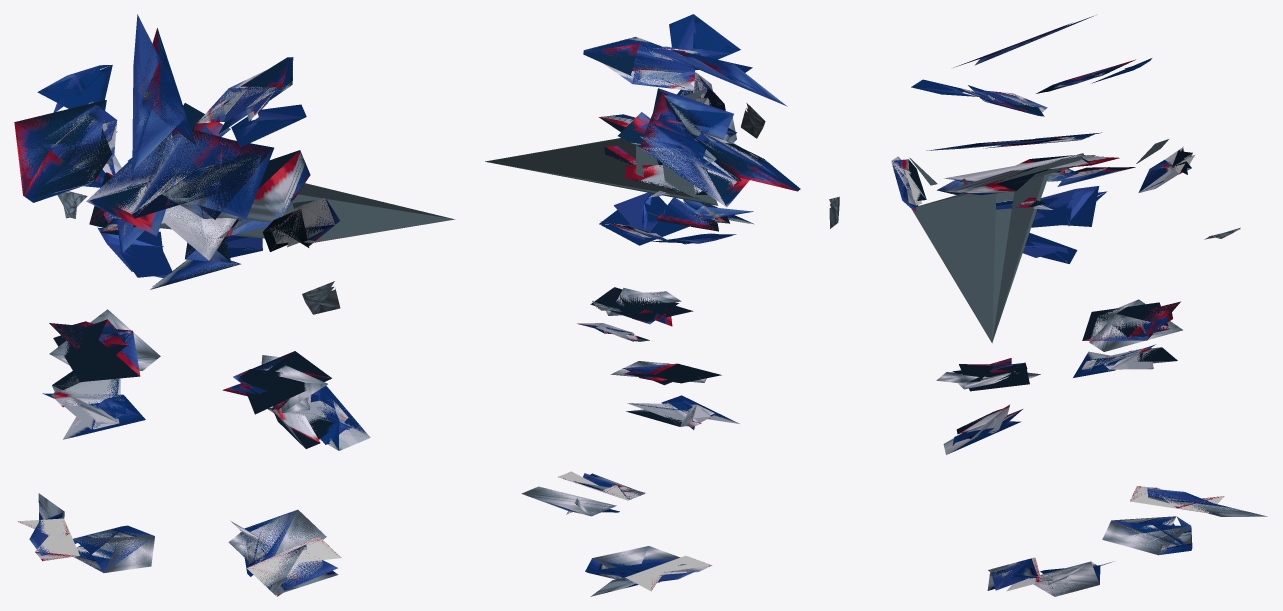
Rendered from alba.obj.
The picture shows the model from 3 angles, left to right: view 1: azimuth 30°, elevation 25°; view 2: azimuth 150°, elevation 25°; view 3: azimuth 270°, elevation 25°; orthographic projection. The views are drawn at different scales.
Parts seen in each view (by area): view 1: bone_12, bone_13, bone_28, bone_01, bone_03, bone_00, bone_08, bone_04, bone_09, bone_11, bone_18, bone_05 (+10 smaller); view 2: bone_12, bone_00, bone_18, bone_07, bone_08, bone_13, bone_19, bone_05, bone_04, bone_06, bone_01, bone_28 (+10 smaller); view 3: bone_00, bone_03, bone_01, bone_05, bone_02, bone_08, bone_06, bone_04, bone_10, bone_09, bone_11, bone_16 (+5 smaller).
Boxes of the visible parts, x1,y1,x2,y2 form: bone_12: [86, 103, 274, 236]; bone_13: [14, 100, 117, 202]; bone_28: [132, 14, 196, 170]; bone_01: [133, 150, 310, 260]; bone_03: [49, 309, 160, 381]; bone_00: [131, 183, 455, 243]; bone_08: [222, 351, 331, 414]; bone_04: [42, 371, 145, 439]; bone_09: [267, 385, 370, 450]; bone_11: [247, 536, 341, 596]; bone_18: [197, 57, 293, 133]; bone_05: [73, 525, 154, 572]; bone_12: [618, 88, 749, 207]; bone_00: [485, 138, 718, 205]; bone_18: [583, 37, 699, 90]; bone_07: [599, 192, 689, 245]; bone_08: [590, 287, 693, 326]; bone_13: [689, 133, 800, 191]; bone_19: [669, 14, 740, 59]; bone_05: [585, 546, 680, 582]; bone_04: [626, 395, 739, 429]; bone_06: [590, 555, 711, 596]; bone_01: [599, 114, 707, 197]; bone_28: [665, 49, 787, 106]; bone_00: [911, 159, 1101, 343]; bone_03: [1082, 299, 1182, 351]; bone_01: [944, 153, 1119, 195]; bone_05: [1102, 516, 1192, 555]; bone_02: [1031, 186, 1107, 227]; bone_08: [936, 358, 1040, 391]; bone_06: [1130, 486, 1267, 516]; bone_04: [1073, 344, 1177, 377]; bone_10: [1033, 561, 1114, 596]; bone_09: [943, 404, 1022, 454]; bone_11: [987, 557, 1041, 591]; bone_16: [1138, 146, 1194, 193].
Size of the model in its own units: 1.53 by 2.09 by 1.59.
38 materials, 34 textured.
